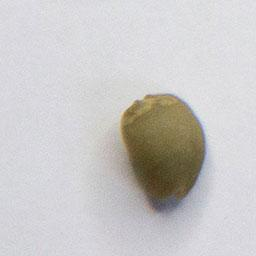peaberry: (117, 90, 209, 206)
